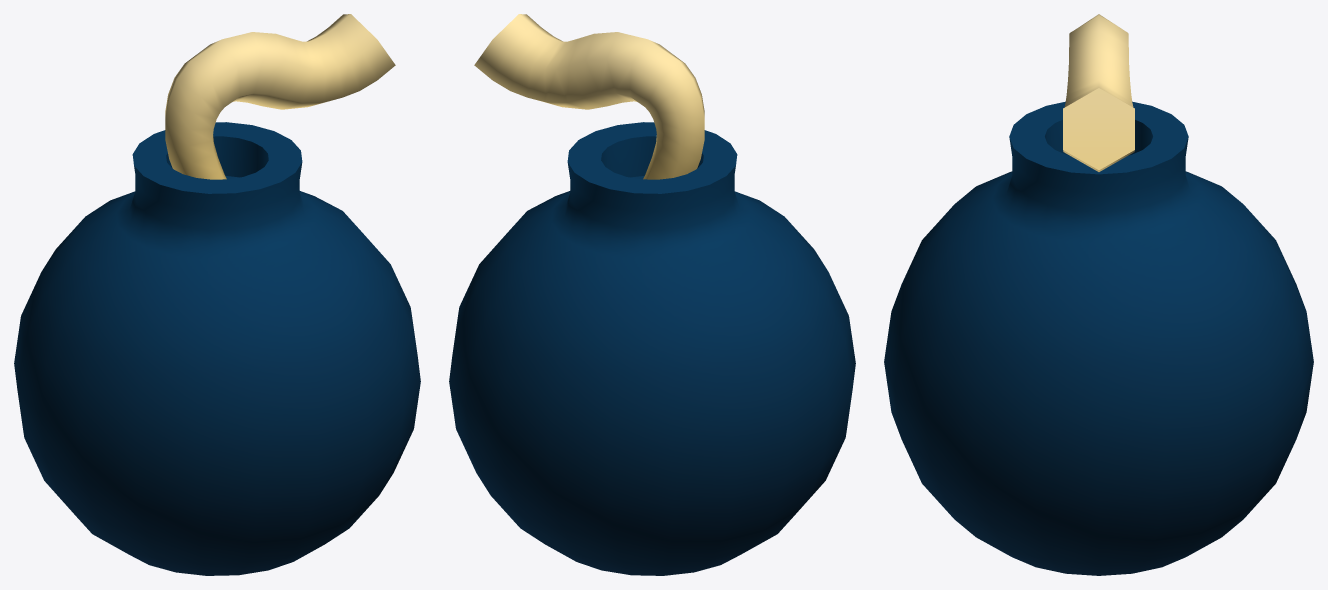
The model's file is Collectible_Bomb_01.fbx.
The picture shows the model from 3 angles, left to right: view 1: azimuth 30°, elevation 25°; view 2: azimuth 150°, elevation 25°; view 3: azimuth 270°, elevation 25°; orthographic projection. The views are drawn at different scales.
Parts seen in each view (by area): view 1: Collectible_Bomb_01; view 2: Collectible_Bomb_01; view 3: Collectible_Bomb_01.
Boxes of the visible parts, left/top/right/bottom form: Collectible_Bomb_01: left=14, top=14, right=420, bottom=575; Collectible_Bomb_01: left=449, top=14, right=855, bottom=575; Collectible_Bomb_01: left=884, top=14, right=1313, bottom=575.
Bounding box in the file's own units: 67.37 × 94.03 × 67.37.
